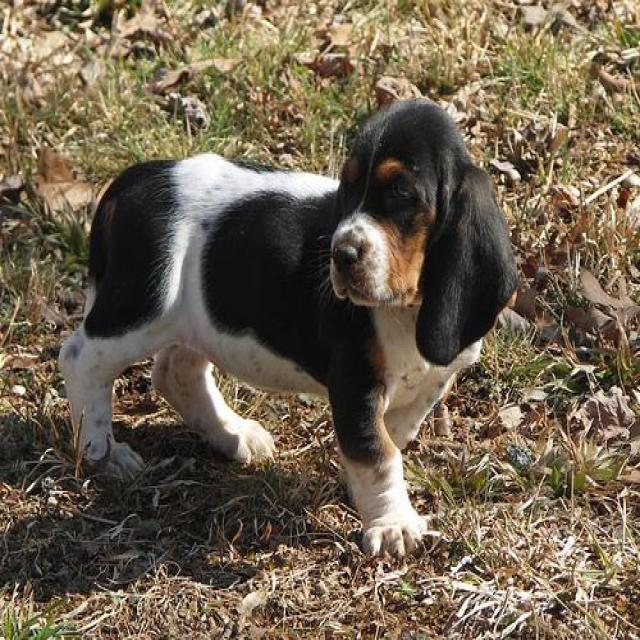basset: (56, 95, 516, 556)
